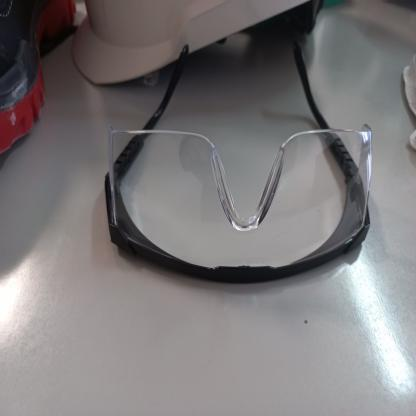goggles: (98, 118, 376, 268)
